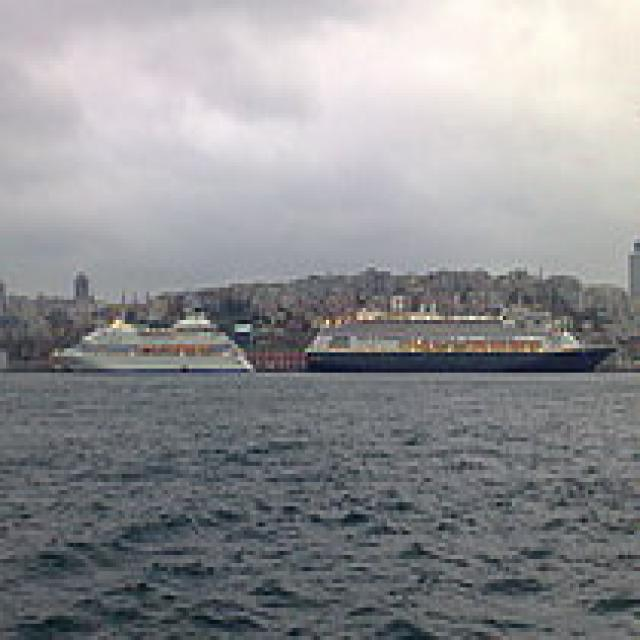Ship: (294, 281, 629, 386), (44, 305, 264, 386)
